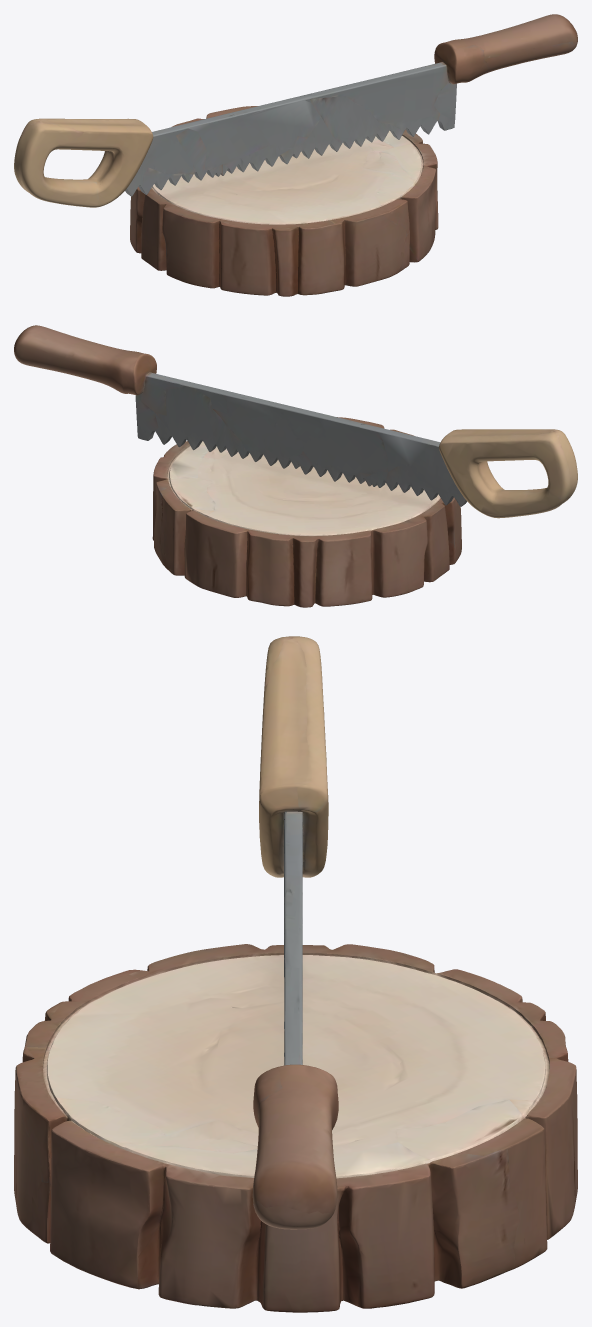
The model's file is saw.glb.
The picture shows the model from 3 angles, top to bottom: view 1: azimuth 30°, elevation 25°; view 2: azimuth 150°, elevation 25°; view 3: azimuth 270°, elevation 25°; orthographic projection. The views are drawn at different scales.
Parts seen in each view (by area): view 1: model; view 2: model; view 3: model.
Boxes of the visible parts, x1,y1,x2,y2 form: model: (14, 14, 577, 296); model: (14, 325, 577, 607); model: (14, 636, 577, 1312).
Bounding box in the file's own units: 1.1 × 0.3258 × 0.5127.
Materials: 1 (1 with a texture image).
